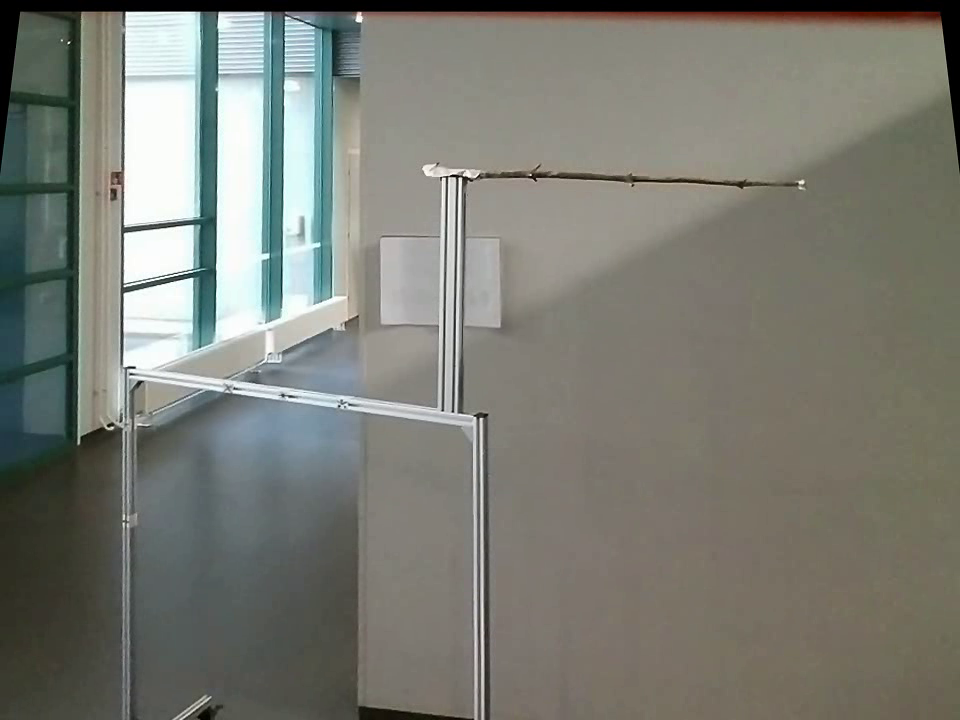aluminum_frame: (121, 359, 473, 432), (114, 364, 137, 718), (434, 176, 468, 414), (470, 411, 494, 718), (168, 688, 217, 719)
branch: (490, 158, 793, 195)
